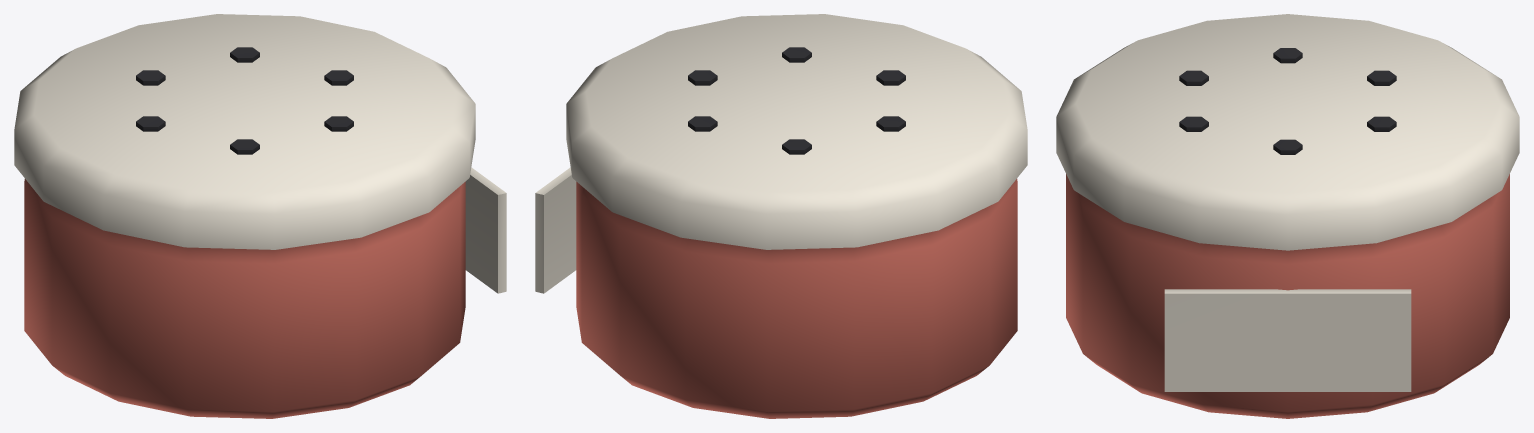
The model's file is bait_tin.glb.
The picture shows the model from 3 angles, left to right: view 1: azimuth 30°, elevation 25°; view 2: azimuth 150°, elevation 25°; view 3: azimuth 270°, elevation 25°; orthographic projection.
Visible parts, largest first — view 1: PART; view 2: PART; view 3: PART.
Part boxes in pixels (x1,y1,x2,y2): PART: (14, 14, 506, 418); PART: (535, 14, 1027, 418); PART: (1056, 14, 1519, 418).
Bounding box in the file's own units: 0.094 × 0.052 × 0.094.
